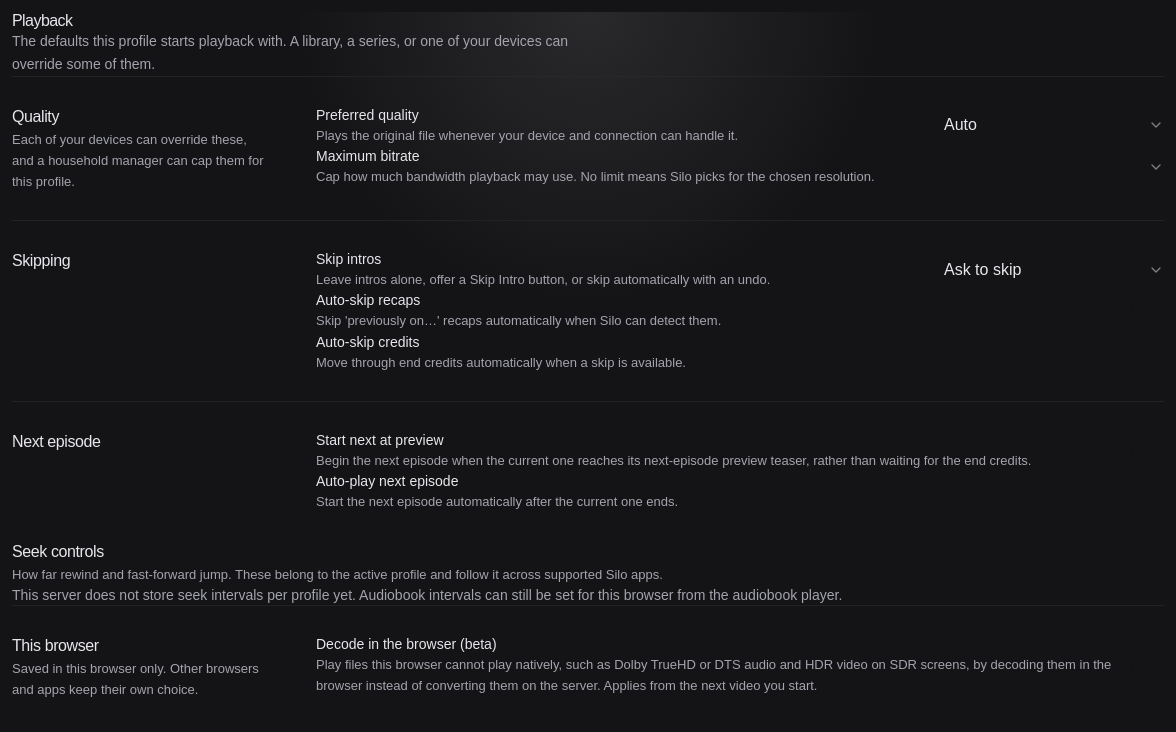
Scenario: PlaybackSettings › shows a stored original quality as Auto and no longer offers Original
This screenshot has width=1176, height=732.
Expected: the text "Plays the original file whenever your device and connection can handle it." is shown, [316,125,738,146]
Step 1. Click the dropdown named "Preferred quality" → (1054, 126), box [944,108,1164,144]
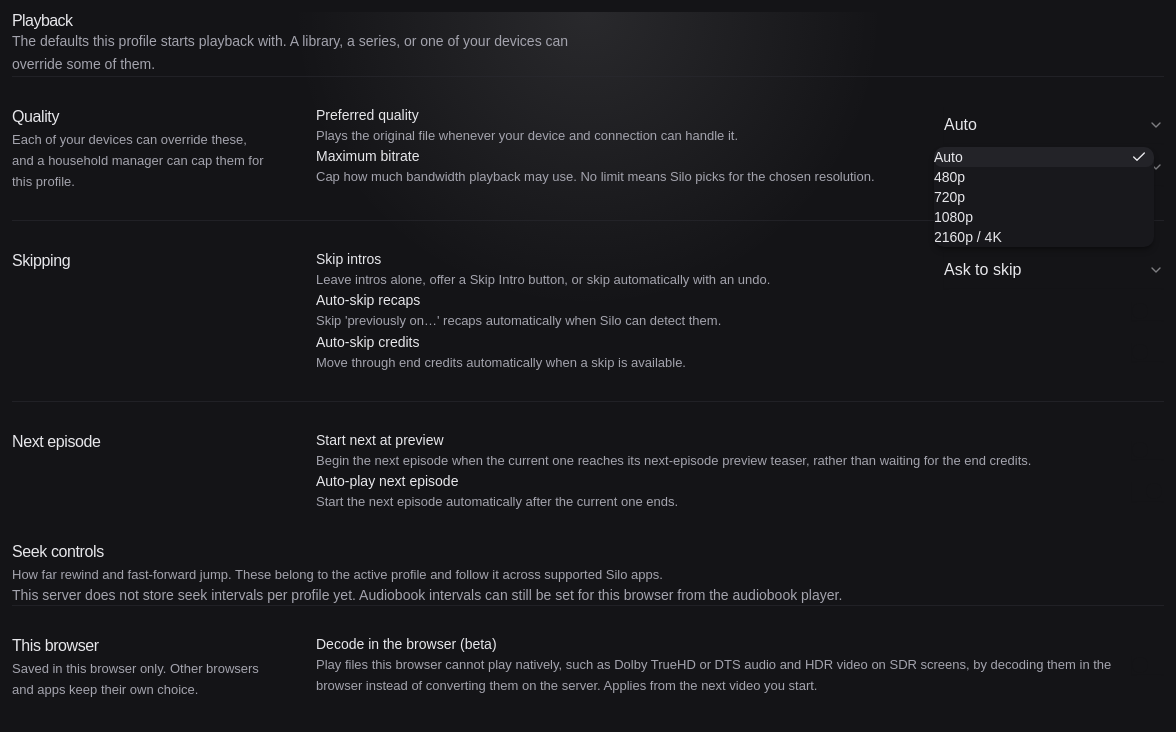
Expected: the option "Auto" is shown, [934,147,1154,167]
